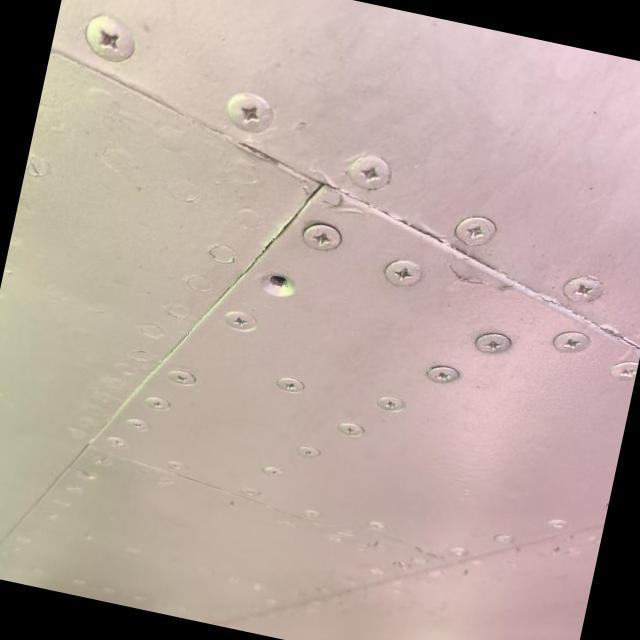Fastener Damage: (227, 240, 325, 325)
